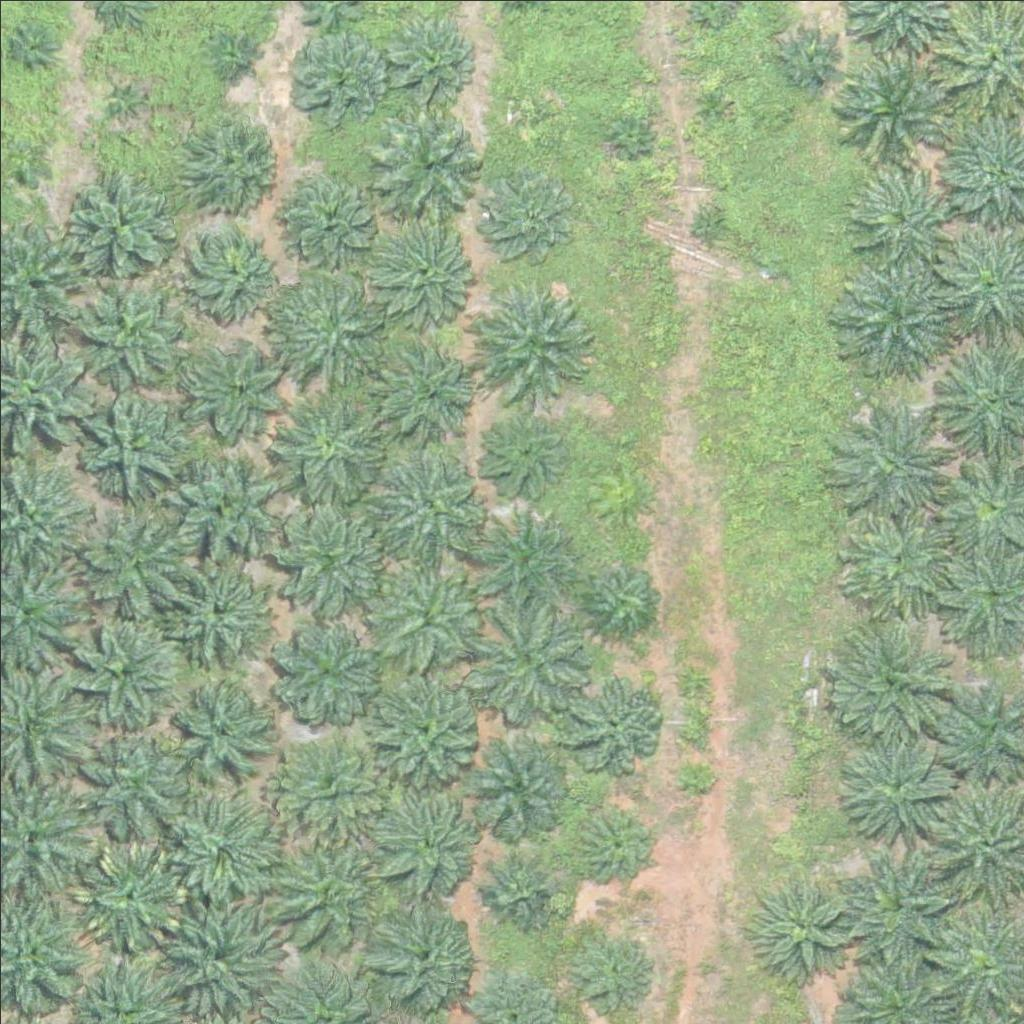Kelapa_Sawit: (829, 721, 954, 847), (830, 625, 955, 751), (468, 599, 593, 725), (835, 495, 960, 621), (831, 395, 956, 521), (835, 250, 960, 376), (824, 30, 949, 156), (475, 279, 600, 405), (65, 265, 190, 391), (263, 265, 388, 390), (271, 836, 384, 949), (277, 730, 390, 843), (365, 669, 478, 782), (375, 785, 488, 898), (365, 901, 478, 1014), (744, 866, 857, 979), (267, 619, 380, 732), (159, 549, 272, 662), (376, 109, 489, 222), (272, 504, 385, 617), (272, 391, 385, 504), (174, 453, 287, 566), (60, 163, 173, 276), (839, 851, 951, 965), (81, 501, 193, 615), (73, 840, 185, 953), (74, 724, 186, 837), (167, 671, 279, 784), (167, 795, 279, 908), (160, 897, 272, 1010), (66, 615, 178, 728), (368, 553, 480, 666), (467, 502, 579, 615), (372, 446, 484, 559), (370, 213, 482, 326), (79, 389, 191, 502), (468, 732, 568, 833), (849, 160, 949, 261), (479, 165, 579, 266), (376, 337, 476, 438), (278, 165, 378, 266), (188, 337, 288, 438), (186, 220, 286, 321), (188, 107, 288, 208), (283, 30, 383, 131), (564, 670, 664, 770), (567, 924, 655, 1012), (569, 796, 657, 884), (480, 413, 567, 501), (383, 10, 470, 98), (583, 560, 658, 636), (481, 854, 556, 929), (775, 28, 838, 91), (8, 25, 58, 75), (103, 73, 153, 123), (691, 87, 729, 125), (690, 206, 728, 244), (677, 755, 714, 793), (213, 32, 251, 69), (505, 94, 543, 131), (610, 113, 647, 151)
